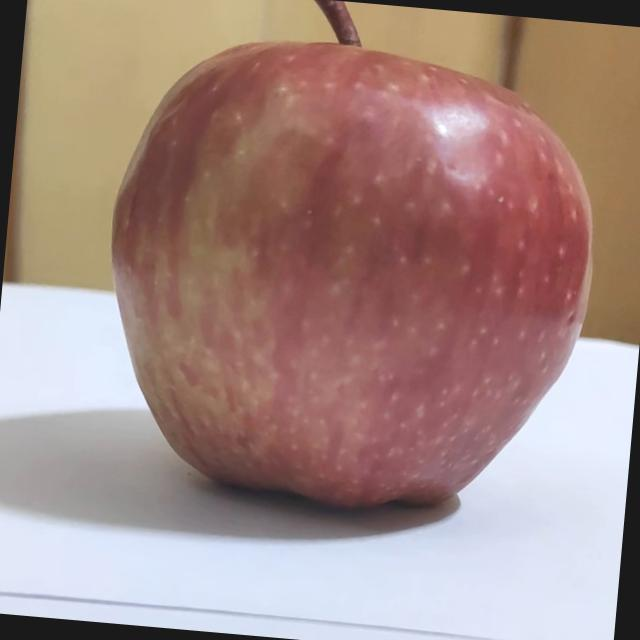apple: (83, 0, 616, 535)
